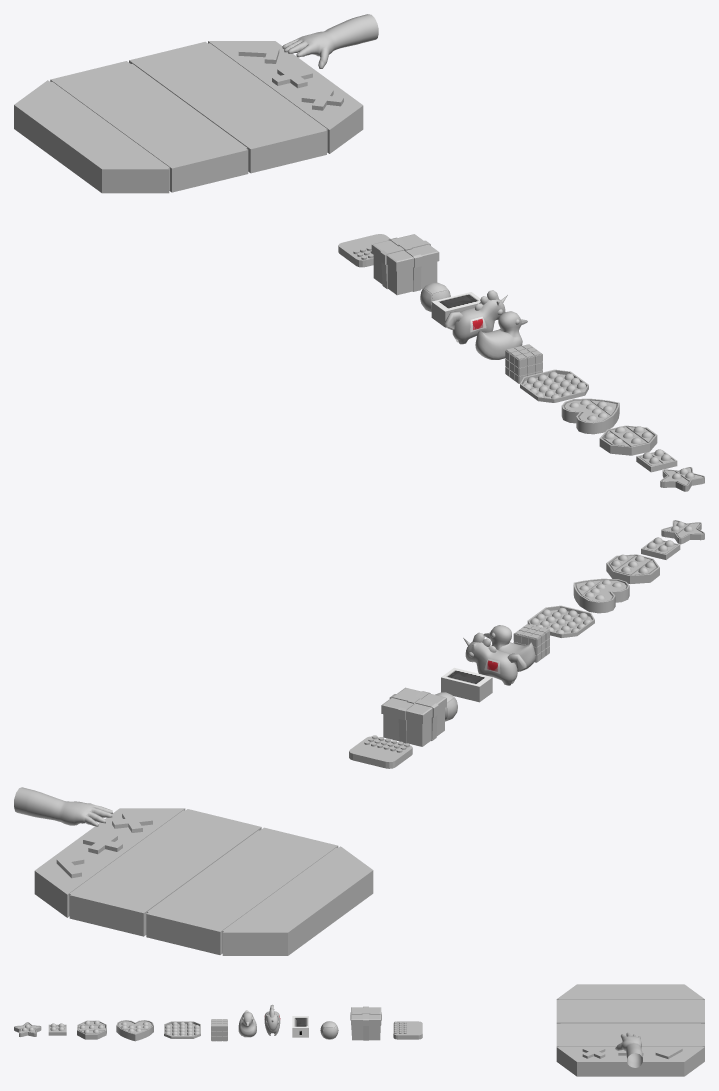
File: Modeller.fbx
The picture shows the model from 3 angles, top to bottom: view 1: azimuth 30°, elevation 25°; view 2: azimuth 150°, elevation 25°; view 3: azimuth 270°, elevation 25°; orthographic projection. The views are drawn at different scales.
Parts seen in each view (by area): view 1: Masa, Cube.001, CocukKol, Unicorn, YumusakKareOyuncak, KalpOyuncak, Ordek, SekizgenOyuncak, Kup, Cube.002, Telefon, YildizOyuncak; view 2: Masa, Cube.001, CocukKol, Unicorn, KalpOyuncak, Cube.002, YumusakKareOyuncak, Telefon, SekizgenOyuncak, Ordek, Kup, YildizOyuncak; view 3: Masa, Cube.001, KalpOyuncak, CocukKol, YumusakKareOyuncak, Cube.002, SekizgenOyuncak, Ordek, Kup, Telefon, Unicorn, YildizOyuncak (+4 smaller).
Boxes of the visible parts, box(x1,y1,x2,y2) form: Masa: box(14, 41, 363, 193); Cube.001: box(371, 234, 439, 295); CocukKol: box(282, 14, 378, 68); Unicorn: box(444, 290, 507, 344); YumusakKareOyuncak: box(520, 369, 588, 402); KalpOyuncak: box(561, 398, 619, 434); Ordek: box(475, 311, 527, 359); SekizgenOyuncak: box(599, 425, 657, 455); Kup: box(505, 344, 542, 383); Cube.002: box(338, 234, 390, 267); Telefon: box(431, 292, 480, 327); YildizOyuncak: box(660, 467, 704, 491); Masa: box(34, 808, 373, 955); Cube.001: box(381, 687, 446, 746); CocukKol: box(14, 787, 112, 826); Unicorn: box(463, 632, 526, 685); KalpOyuncak: box(573, 578, 629, 613); Cube.002: box(349, 735, 412, 768); YumusakKareOyuncak: box(527, 605, 594, 637); Telefon: box(441, 667, 492, 702); SekizgenOyuncak: box(606, 554, 659, 583); Ordek: box(483, 625, 535, 671); Kup: box(513, 624, 549, 662); YildizOyuncak: box(661, 520, 704, 544); Masa: box(556, 984, 704, 1076); Cube.001: box(350, 1006, 381, 1040); KalpOyuncak: box(116, 1020, 153, 1041); CocukKol: box(615, 1032, 642, 1067); YumusakKareOyuncak: box(164, 1021, 200, 1038); Cube.002: box(393, 1021, 422, 1039); SekizgenOyuncak: box(77, 1020, 106, 1039); Ordek: box(238, 1010, 256, 1037); Kup: box(211, 1019, 227, 1041); Telefon: box(292, 1016, 308, 1037); Unicorn: box(264, 1004, 280, 1035); YildizOyuncak: box(14, 1022, 41, 1036).
Bounding box in the file's own units: 1060 × 216 × 3271.
